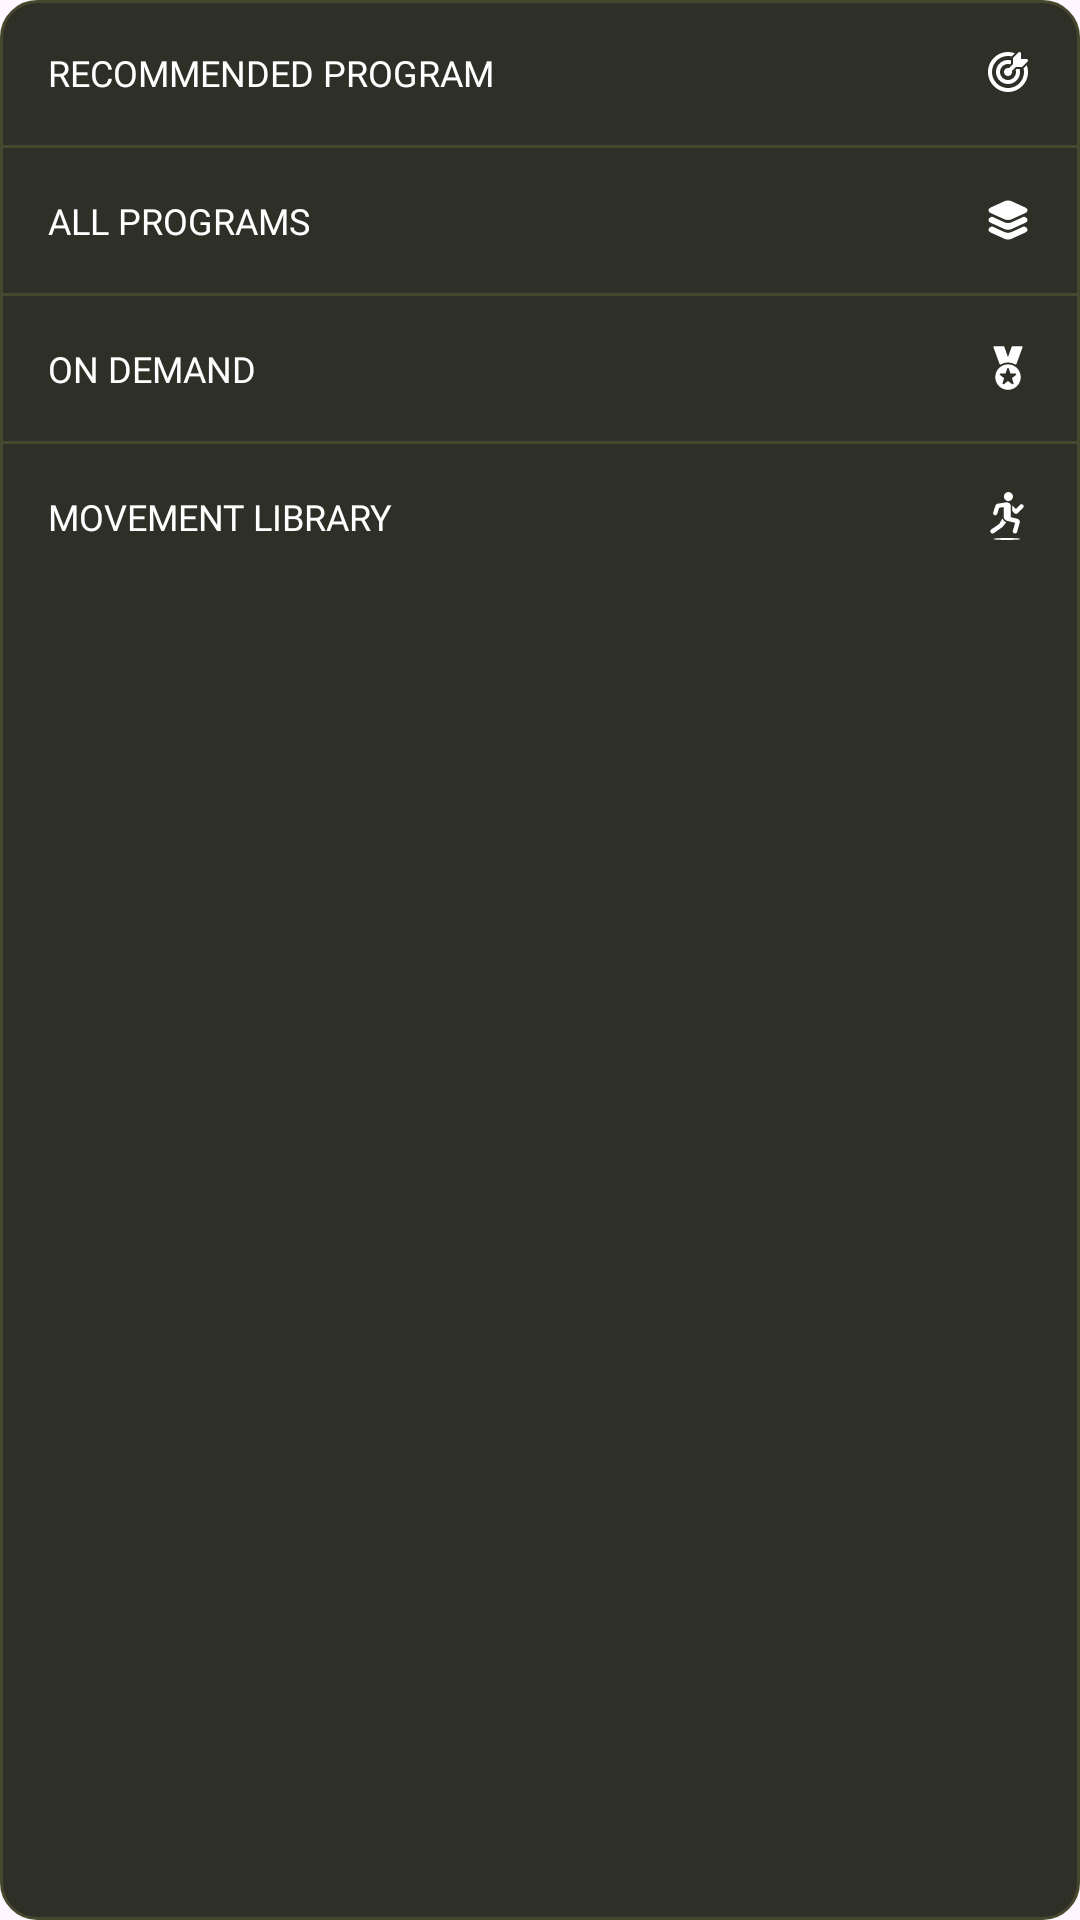

Where to tap for icons on this 1080×1920 app screen, as [x,y]:
gym: [1007,516]
layers: [1008,220]
medal reward: [1008,368]
target arrow: [1008,72]
